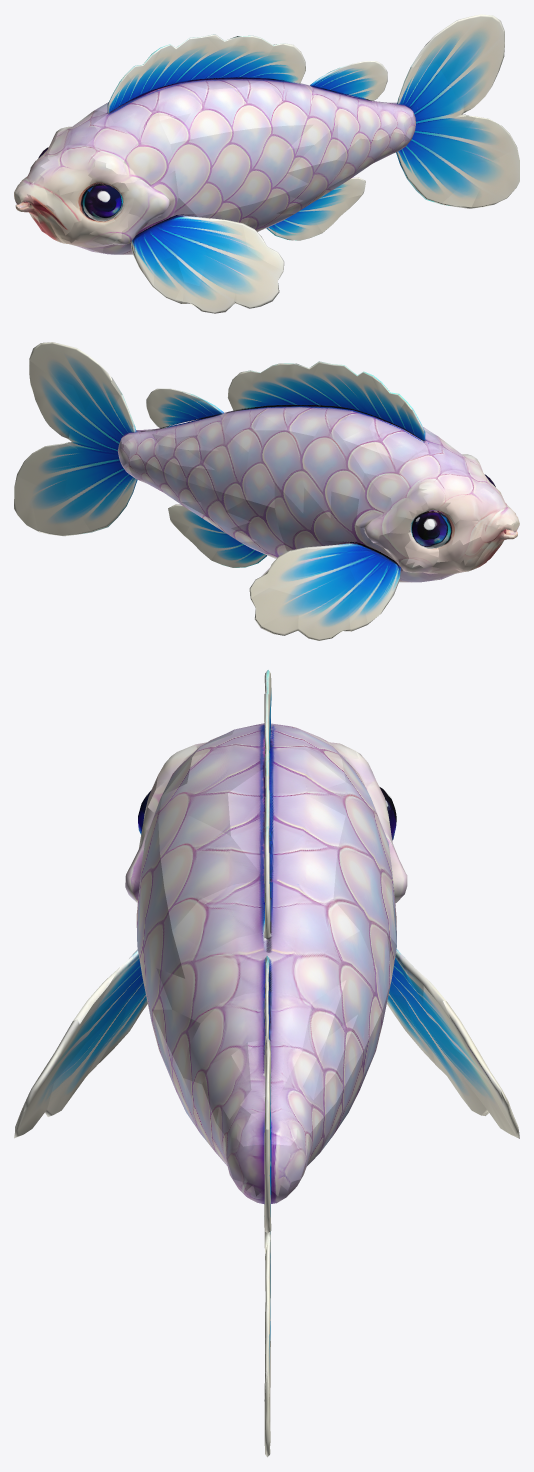
Rendered from pearl_fish_textured_meshy.glb.
3 views of the same model, one above another, from view 1: azimuth 30°, elevation 25°; view 2: azimuth 150°, elevation 25°; view 3: azimuth 270°, elevation 25° (orthographic). The views are drawn at different scales.
Size of the model in its own units: 2 by 0.9206 by 0.8982.
1 material, 1 textured.
